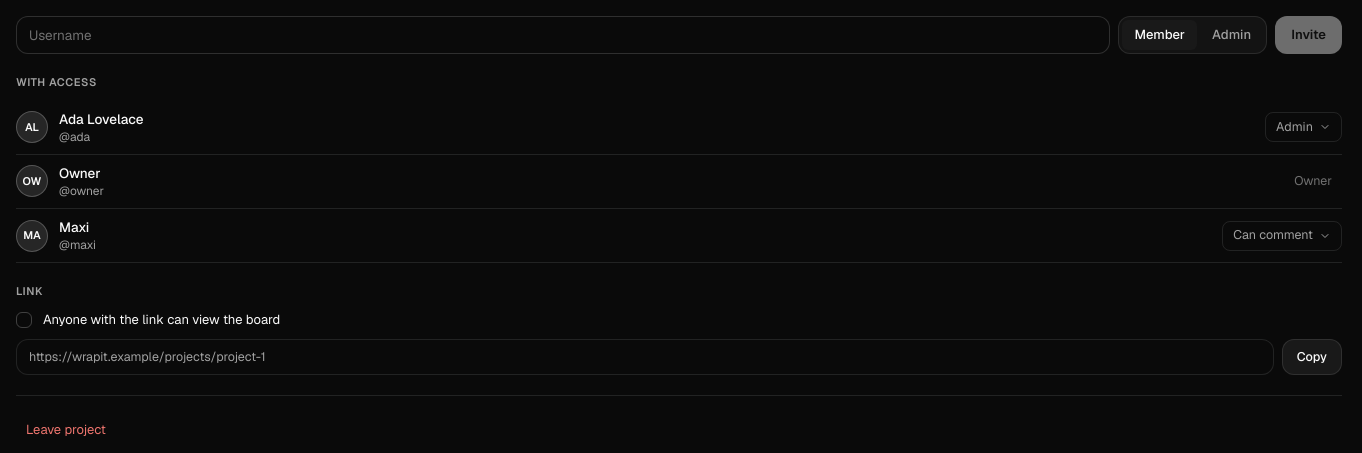
Test: ShareModalBody › hides Transfer ownership when the viewer is an ADMIN
The width and height of the screenshot is (1362, 453).
Click the button with aria-label "Change permission" at (1282, 236), box x1=1222 y1=221 x2=1342 y2=251
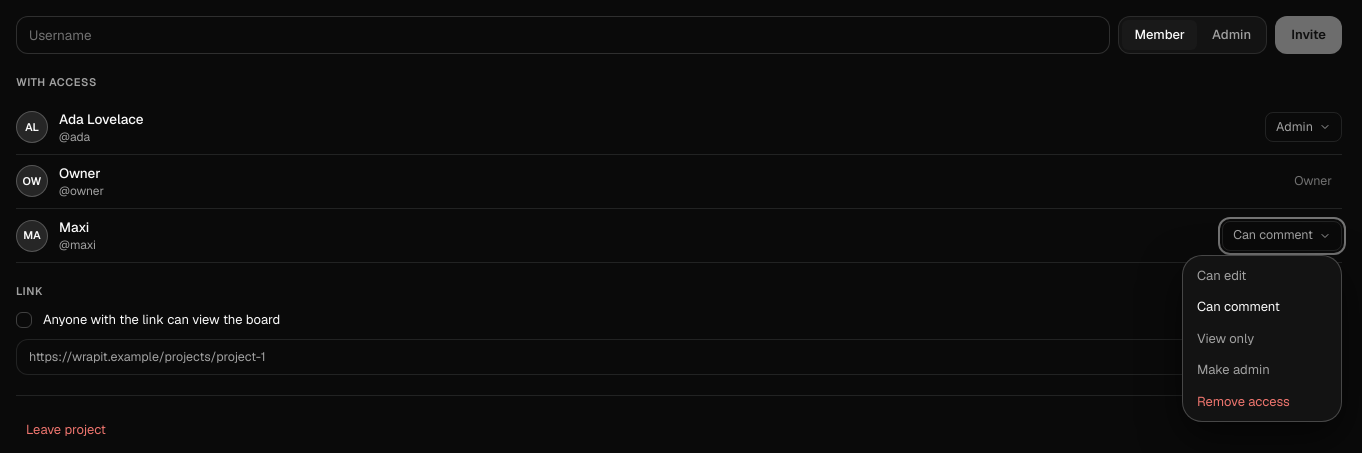
Check: the menu item "Make admin" is shown, box x1=1187 y1=354 x2=1337 y2=386
